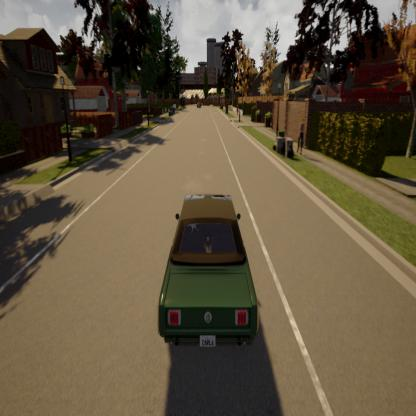Cars: (145, 186, 266, 364)
Pedestrian: (293, 116, 310, 162)
